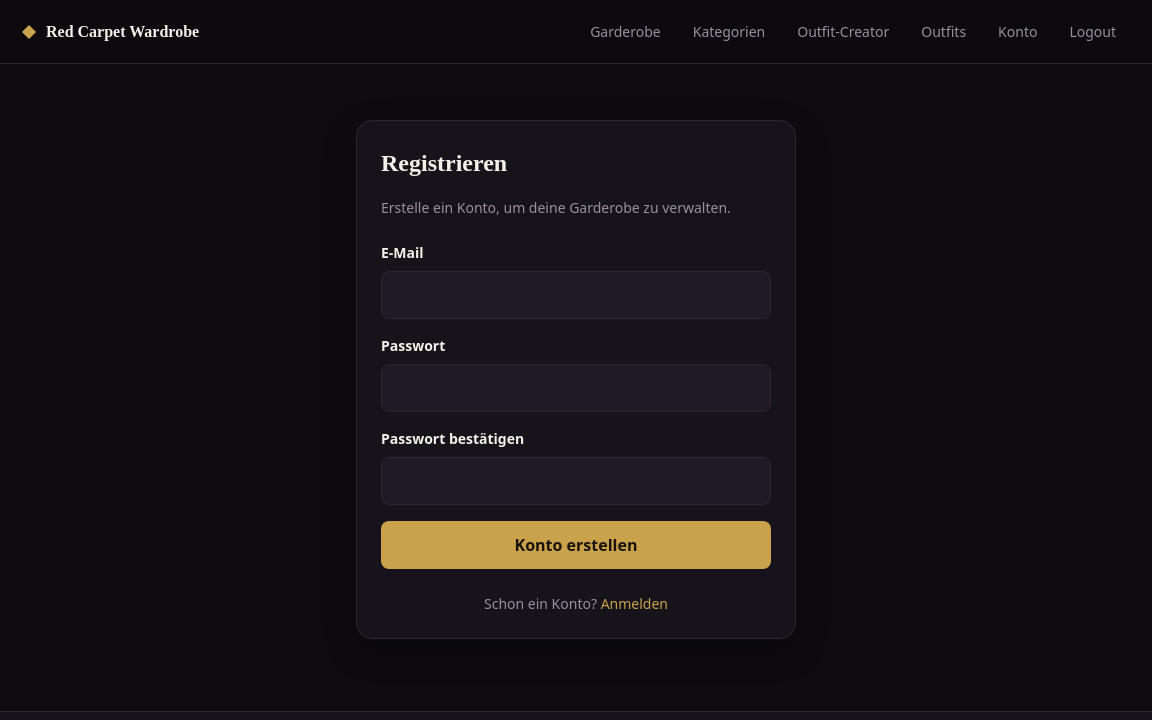
Test: RegisterPage › zeigt einen Fehler, wenn die E-Mail bereits vergeben ist
In the field labelled "E-Mail": point(576, 295) [381,271,771,319], type "anna@example.com"
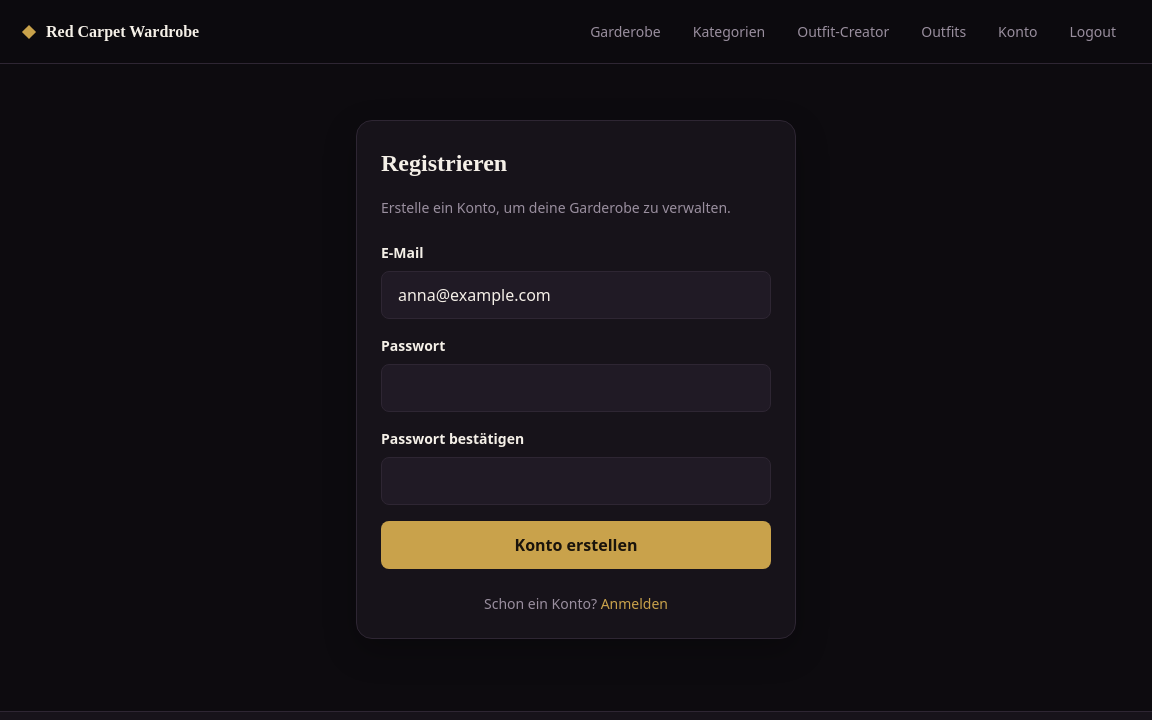
In the password field labelled "Passwort": point(576, 388) [381,364,771,412], type "geheim123"
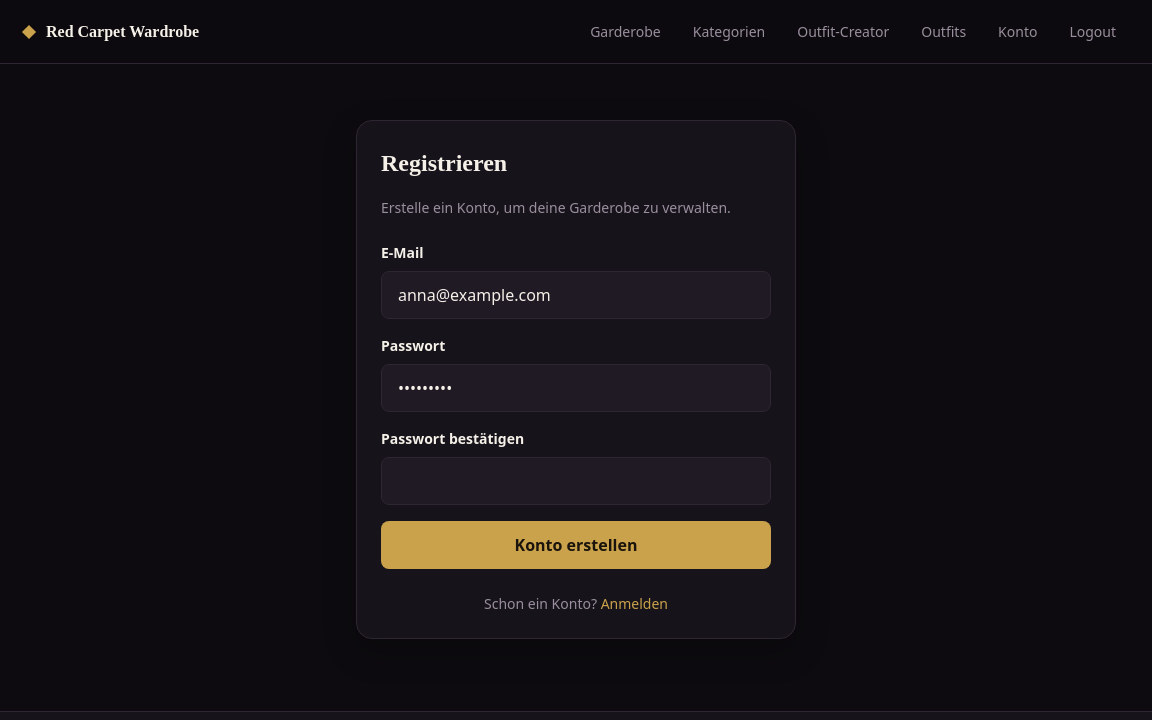
In the password field labelled "Passwort bestätigen": point(576, 481) [381,457,771,505], type "geheim123"
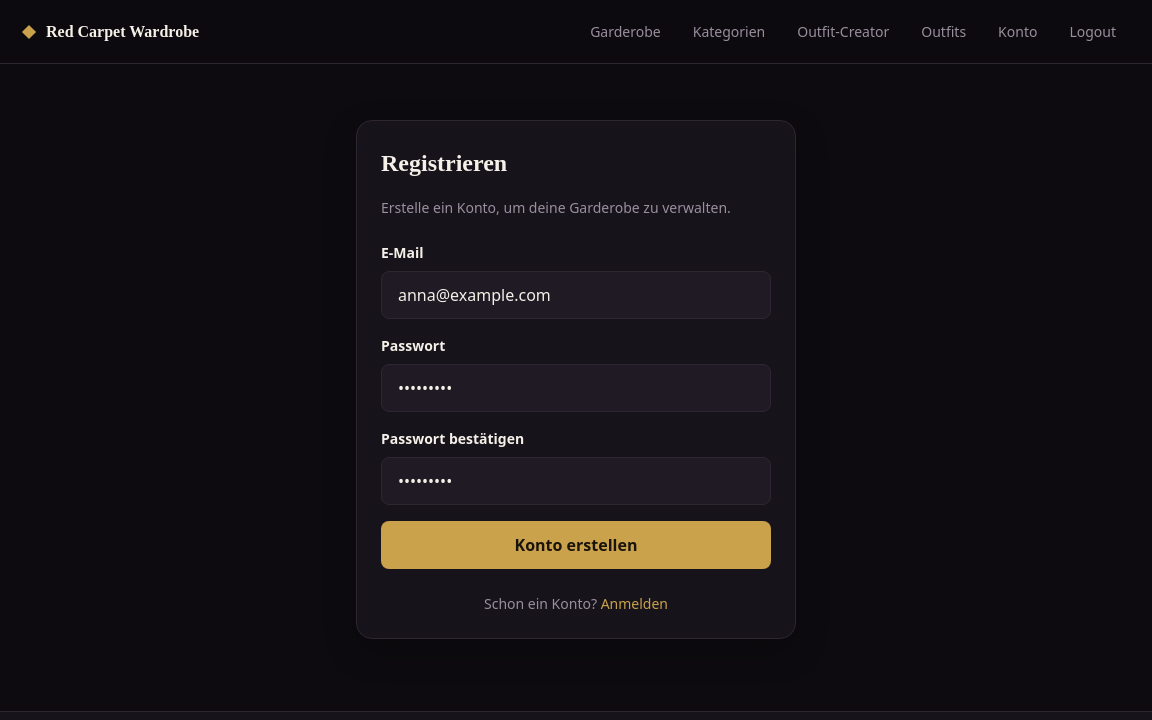
Click the button "Konto erstellen": point(576, 545) [381,521,771,569]
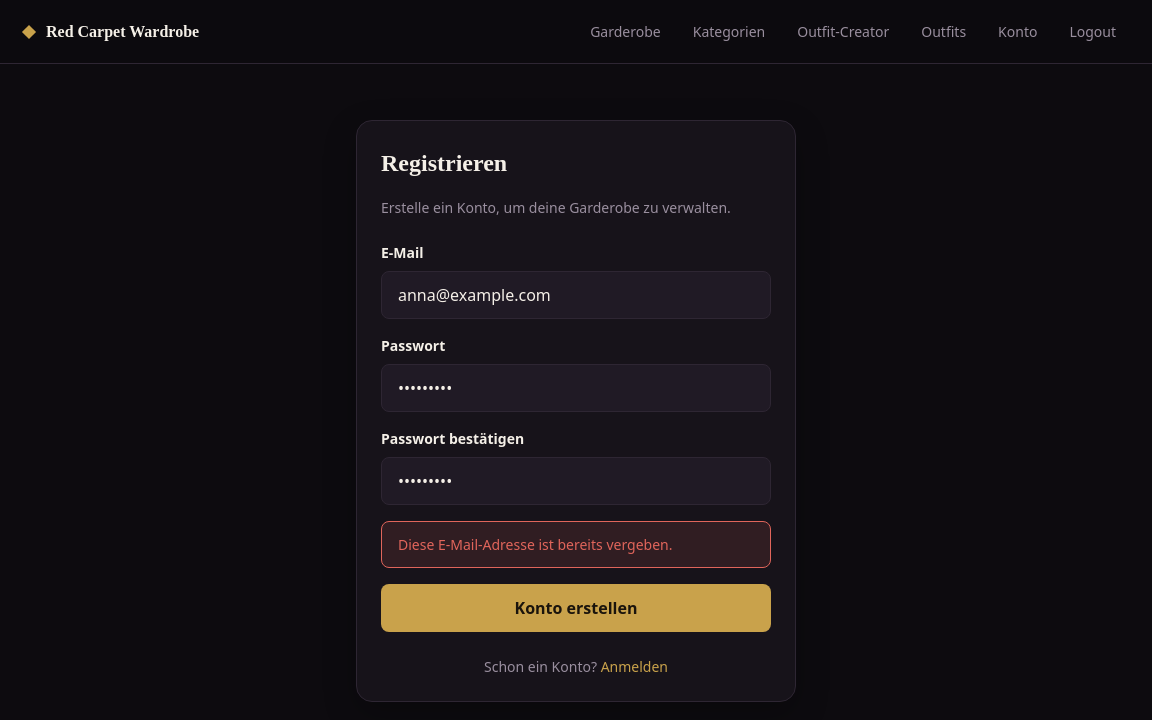
Result: the message shows "Diese E-Mail-Adresse ist bereits vergeben" at [398,535,672,554]
